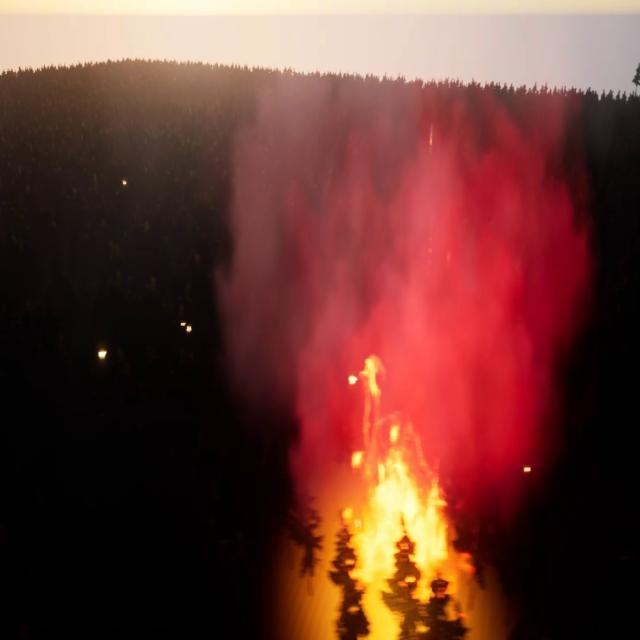fire: (343, 354, 448, 570)
smoke: (220, 66, 587, 490)
